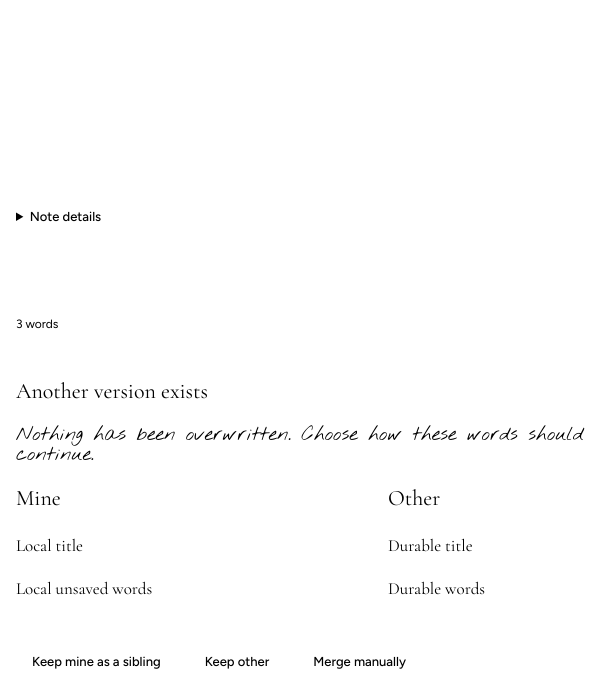
merges a stale draft explicitly and saves against the current durable hash
(page scrolled)
Click the button "Merge manually" at (360, 662), box left=297, top=640, right=422, bottom=684
Wait 750 ms
(page scrolled)
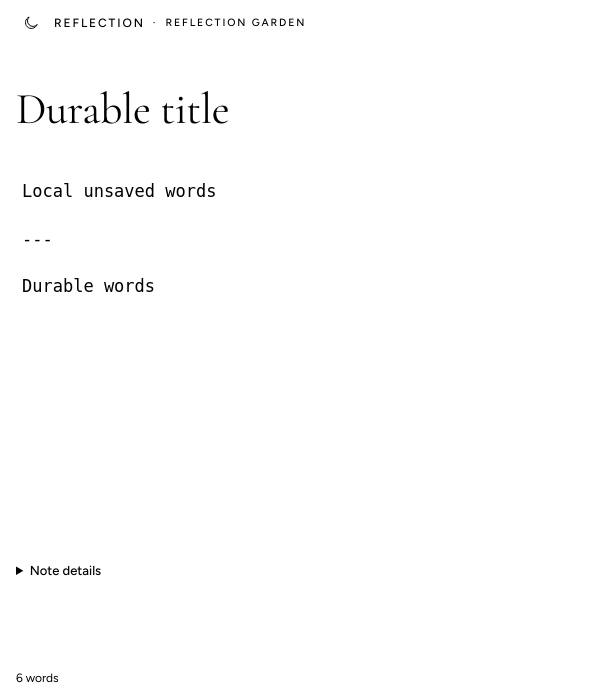
Check: the field named "Markdown body" shows "Local unsaved words", box left=22, top=181, right=216, bottom=296
Check: the heading "Another version exists" is gone
Check: the field named "Markdown body" shows "Durable words", box left=22, top=181, right=216, bottom=296
